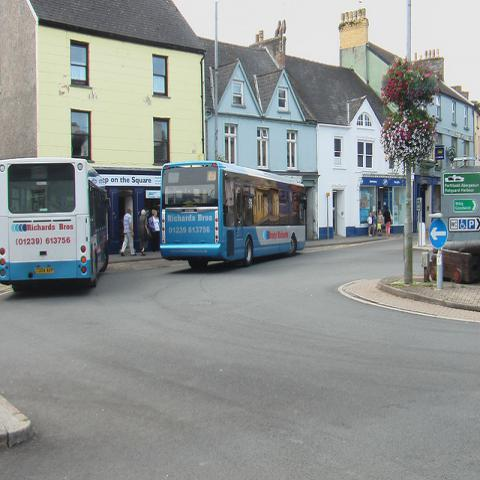bus: (160, 161, 306, 270), (1, 160, 111, 291)
